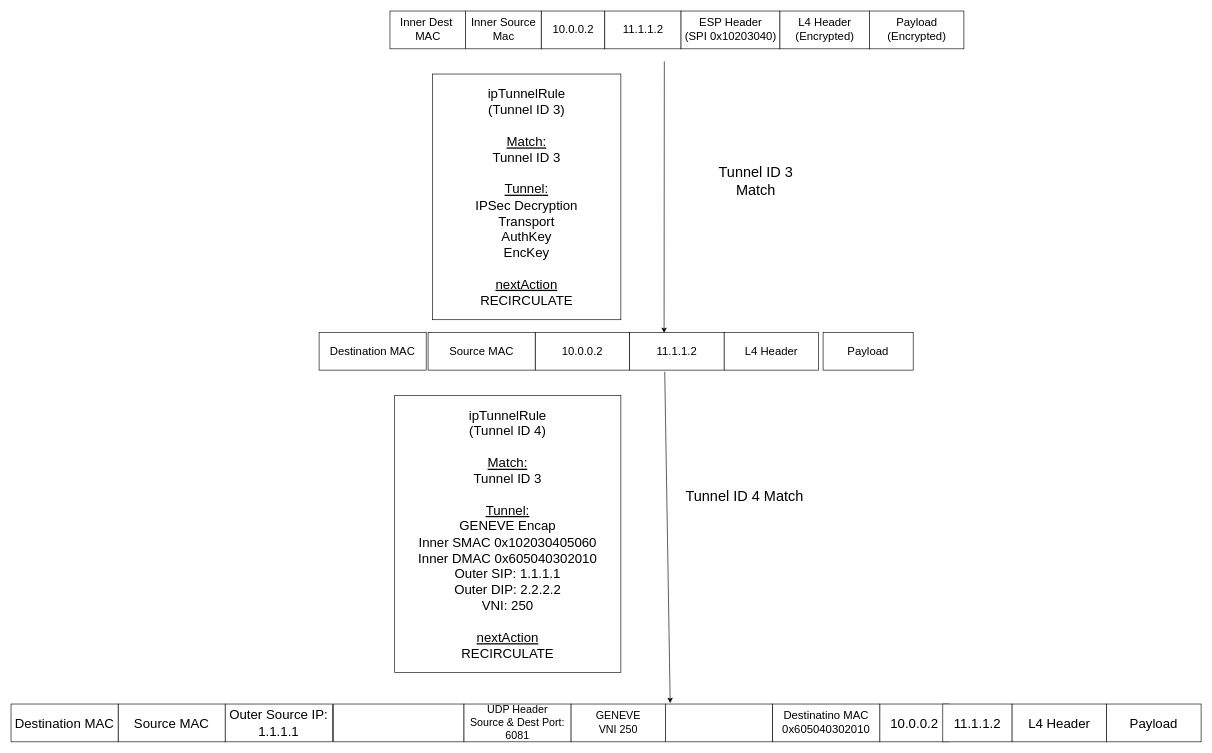
The diagram is 1212 pixels wide and 753 high, and some of its shapes have lost their labels. The centre of each missing label's shape, as x and y in pixels:
Outer Destination IP: 2.2.2.2: pixel 398 722
Source MAC 0x102030405060: pixel 719 722
